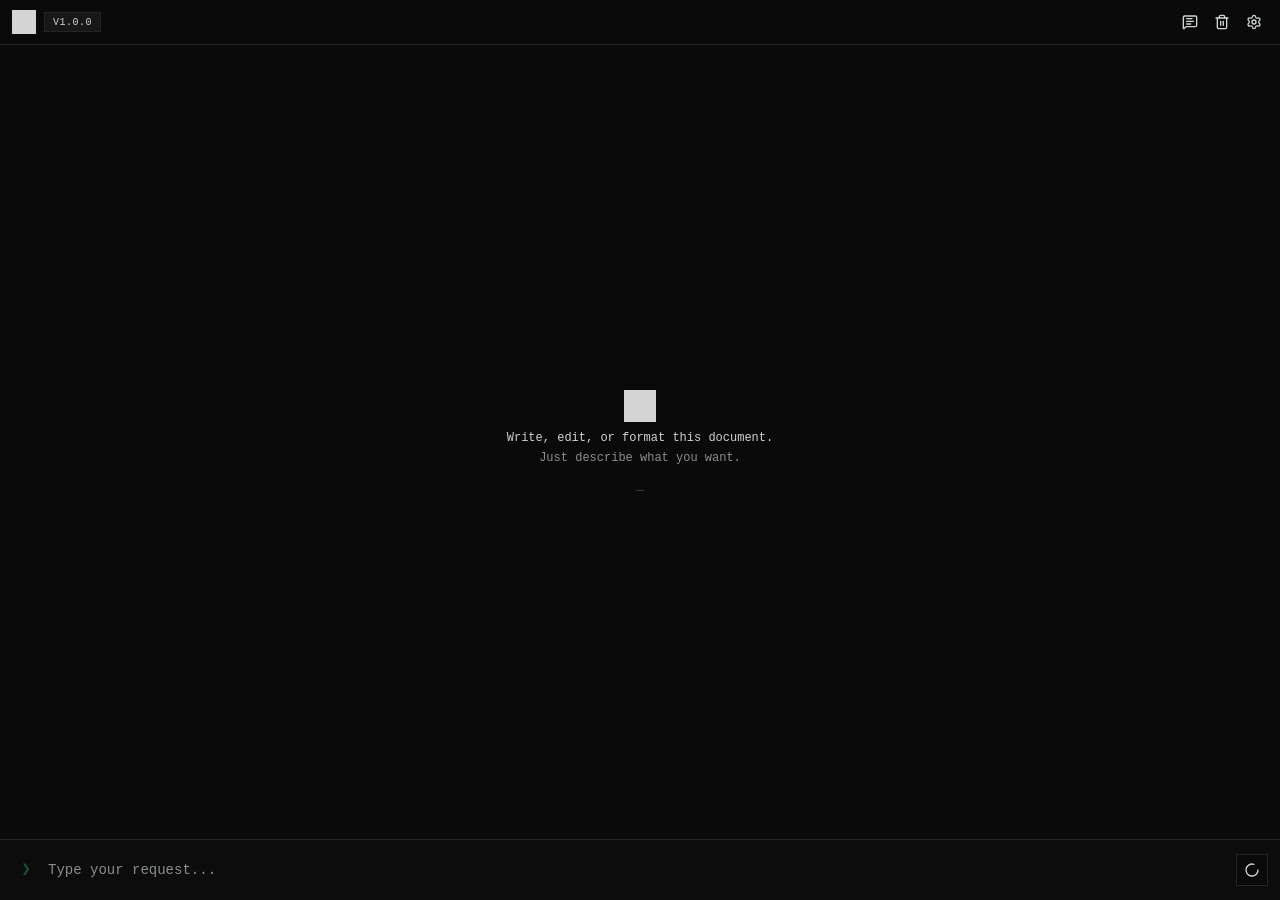
Test: App › shows a spinner while loading and a square stop button on hover
(page scrolled)
Expected: the icon with class "animate-spin" is shown, [1244,862,1260,878]
Hover over the button named "stop" at coordinates (1252, 870), box [1236,854,1268,886]
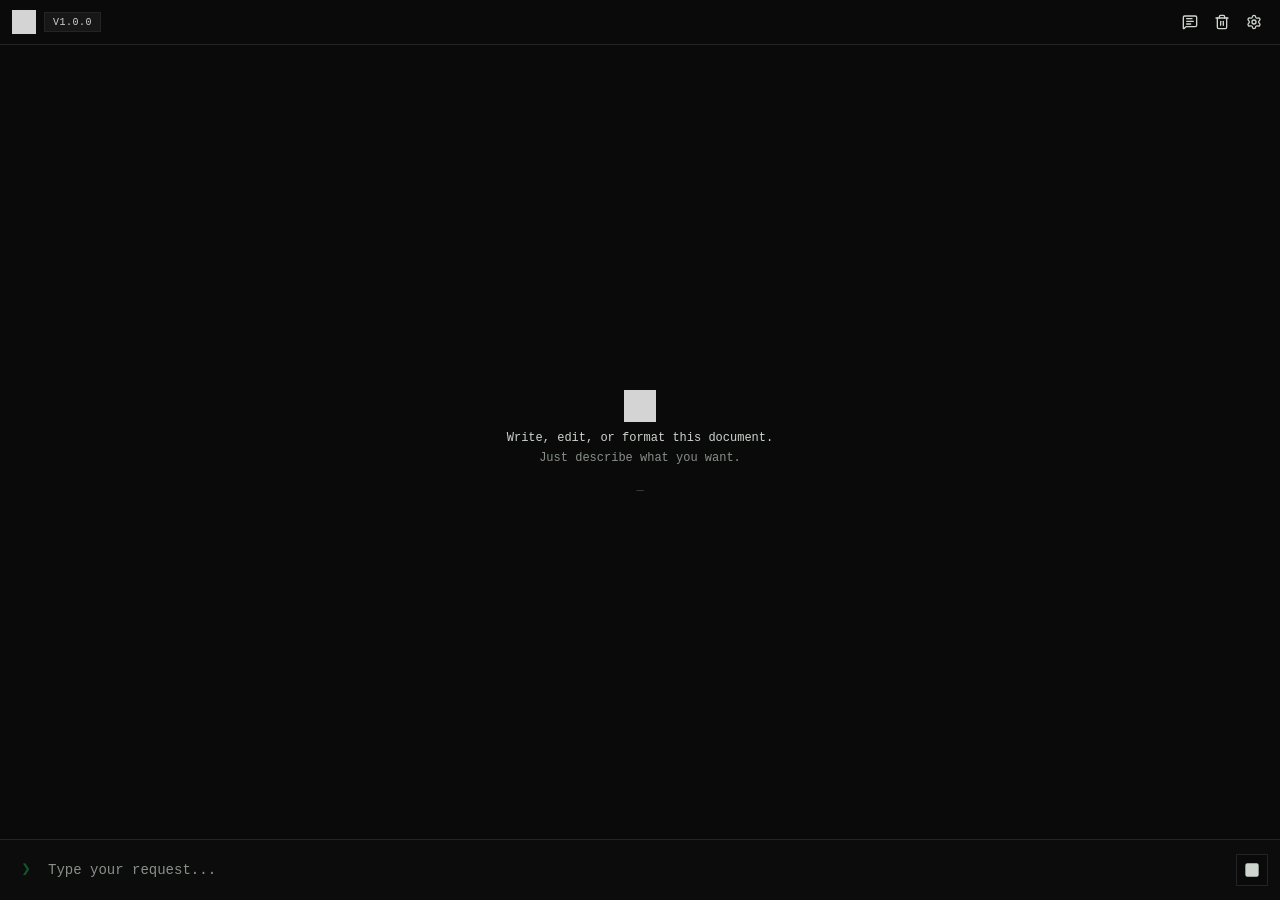
Result: the icon with class "animate-spin" is gone
Move the pointer off the button named "stop", box [1236,854,1268,886]
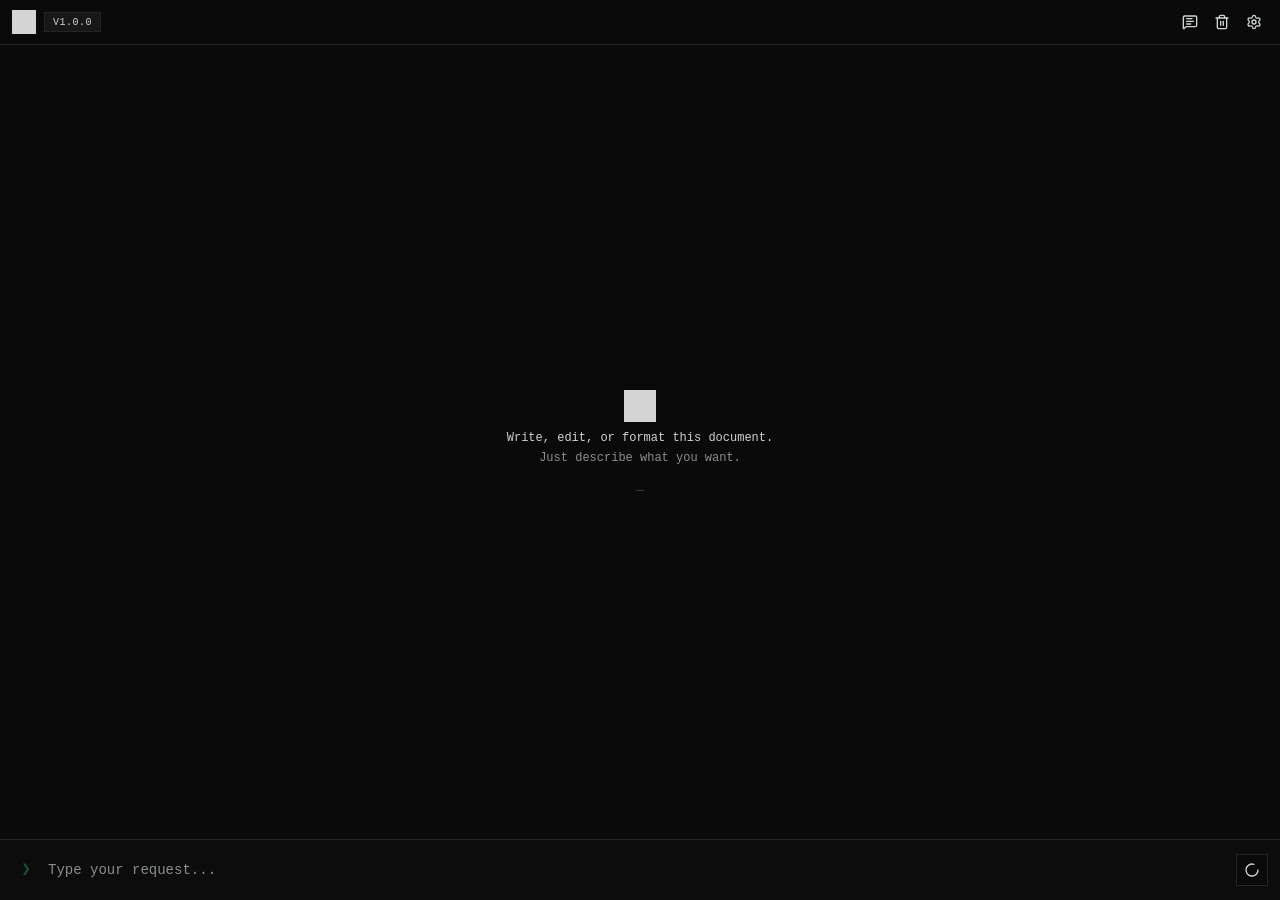
Result: the icon with class "animate-spin" is shown at [1244,862,1260,878]
